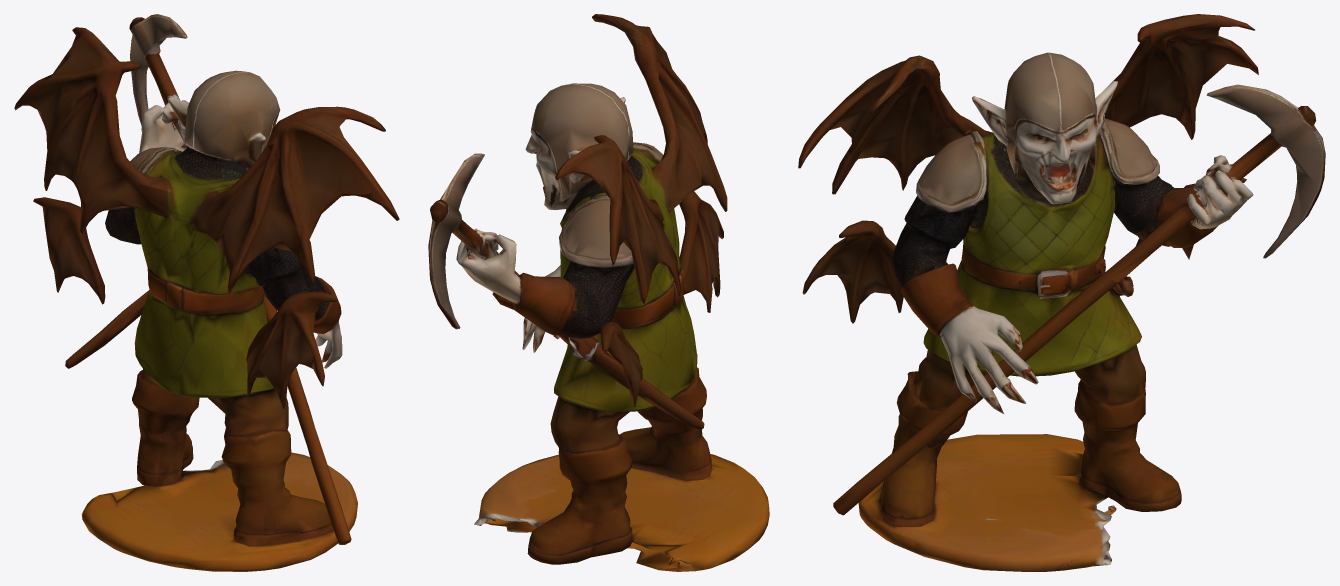
3 renders of one model, left to right at view 1: azimuth 30°, elevation 25°; view 2: azimuth 150°, elevation 25°; view 3: azimuth 270°, elevation 25°, orthographic. The views are drawn at different scales.
Parts seen in each view (by area): view 1: tripo_node_aa547180-d851-4eed-855b-ccf4e44baf7a; view 2: tripo_node_aa547180-d851-4eed-855b-ccf4e44baf7a; view 3: tripo_node_aa547180-d851-4eed-855b-ccf4e44baf7a.
Boxes of the visible parts, bbox=[...] form: tripo_node_aa547180-d851-4eed-855b-ccf4e44baf7a: bbox=[14, 14, 399, 571]; tripo_node_aa547180-d851-4eed-855b-ccf4e44baf7a: bbox=[428, 14, 769, 571]; tripo_node_aa547180-d851-4eed-855b-ccf4e44baf7a: bbox=[798, 14, 1325, 571].
Size of the model in its own units: 0.5799 by 0.9905 by 0.9964.
Materials: 1 (1 with a texture image).
